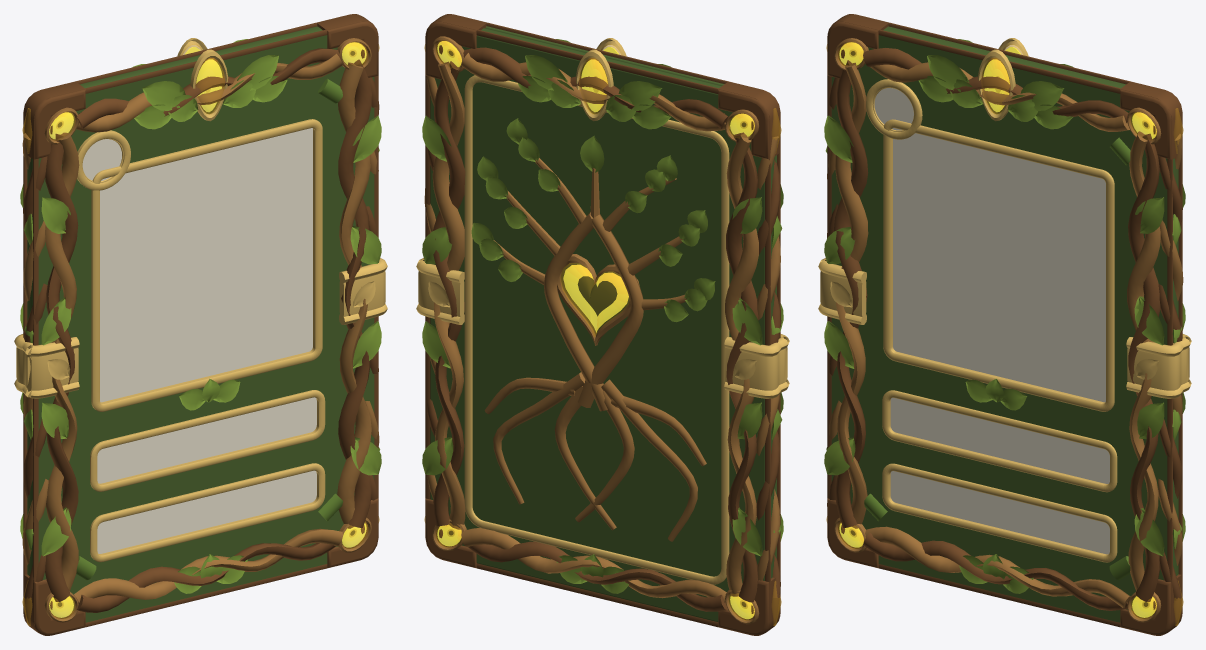
Rendered from card-faction-forest.glb.
3 renders of one model, left to right at view 1: azimuth 30°, elevation 25°; view 2: azimuth 150°, elevation 25°; view 3: azimuth 330°, elevation 25°, orthographic.
Visible parts, largest first — view 1: forest-face-illu, forest-front-shell, forest-rim-illu-rim, forest-face-name, forest-face-desc, forest-front-rail, braid-1-front-s1, braid-1-front-s0, braid--1-front-s0, braid--1-front-s1, forest-rim-name-rim, forest-rim-desc-rim (+35 smaller); view 2: forest-core-body, back-brass-border, forest-back-rail, braid-1-back-s1, braid--1-back-s1, braid-1-back-s0, braid--1-back-s0, hroot-b--1-hroot-1, back-heart-amber, tree-trunk--1, hroot-b--1-hroot-0, tree-trunk-1 (+44 smaller); view 3: forest-front-shell, forest-face-illu, forest-rim-illu-rim, forest-face-name, forest-face-desc, forest-front-rail, braid--1-front-s1, braid--1-front-s0, braid-1-front-s0, forest-rim-name-rim, forest-rim-desc-rim, braid-1-front-s1 (+36 smaller).
Part boxes in pixels (bbox=[...]): forest-face-illu: bbox=[100, 128, 312, 402]; forest-front-shell: bbox=[38, 35, 374, 622]; forest-rim-illu-rim: bbox=[91, 119, 322, 411]; forest-face-name: bbox=[97, 397, 316, 483]; forest-face-desc: bbox=[97, 470, 316, 553]; forest-front-rail: bbox=[33, 21, 378, 635]; braid-1-front-s1: bbox=[337, 62, 371, 528]; braid-1-front-s0: bbox=[338, 59, 371, 527]; braid--1-front-s0: bbox=[45, 134, 78, 601]; braid--1-front-s1: bbox=[45, 132, 79, 591]; forest-rim-name-rim: bbox=[90, 390, 325, 491]; forest-rim-desc-rim: bbox=[90, 463, 325, 562]; forest-core-body: bbox=[430, 28, 774, 621]; back-brass-border: bbox=[464, 75, 729, 584]; forest-back-rail: bbox=[425, 21, 770, 635]; braid-1-back-s1: bbox=[432, 61, 465, 529]; braid--1-back-s1: bbox=[725, 132, 758, 596]; braid-1-back-s0: bbox=[433, 61, 465, 525]; braid--1-back-s0: bbox=[726, 132, 758, 602]; hroot-b--1-hroot-1: bbox=[461, 528, 726, 602]; back-heart-amber: bbox=[560, 263, 629, 336]; tree-trunk--1: bbox=[578, 214, 643, 407]; hroot-b--1-hroot-0: bbox=[463, 541, 727, 611]; tree-trunk-1: bbox=[544, 212, 607, 411]; forest-front-shell: bbox=[831, 35, 1167, 622]; forest-face-illu: bbox=[893, 133, 1105, 402]; forest-rim-illu-rim: bbox=[883, 119, 1114, 411]; forest-face-name: bbox=[890, 397, 1109, 483]; forest-face-desc: bbox=[890, 471, 1109, 554]; forest-front-rail: bbox=[827, 21, 1172, 635]; braid--1-front-s1: bbox=[835, 63, 868, 528]; braid--1-front-s0: bbox=[834, 60, 868, 527]; braid-1-front-s0: bbox=[1128, 134, 1160, 601]; forest-rim-name-rim: bbox=[882, 390, 1117, 492]; forest-rim-desc-rim: bbox=[882, 463, 1117, 562]; braid-1-front-s1: bbox=[1127, 131, 1160, 591].
Size of the model in its own units: 0.9967 by 1.45 by 0.1278.
